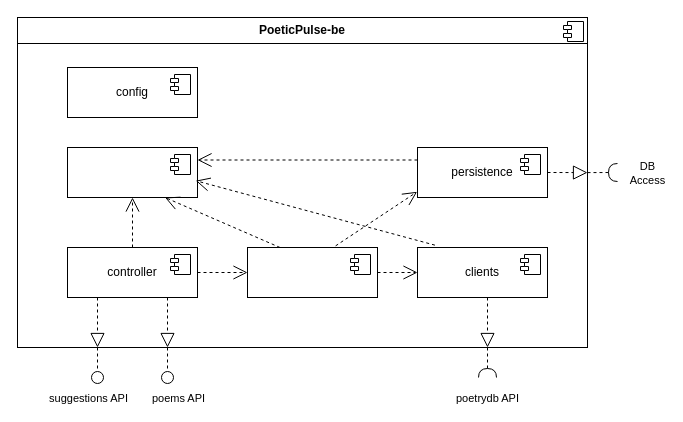
Image size: 683x422. Some labels were removed from this diagram. The shapes that lost their labels are listed below. From the top down, each one's box as (x1, y1, x2, y2) in pixels, then its label:
(66, 146, 198, 198): models
(246, 246, 378, 298): services
